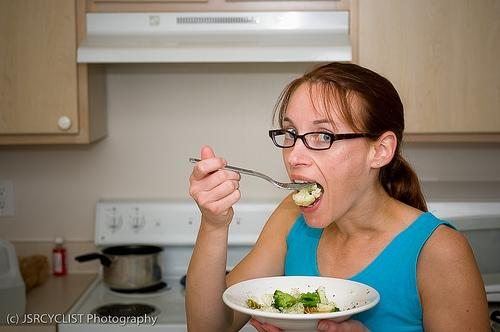broccoli: (272, 290, 296, 310), (296, 292, 320, 308)
cauliflower: (316, 286, 336, 312), (292, 186, 315, 207), (288, 302, 304, 314), (262, 307, 280, 313)
